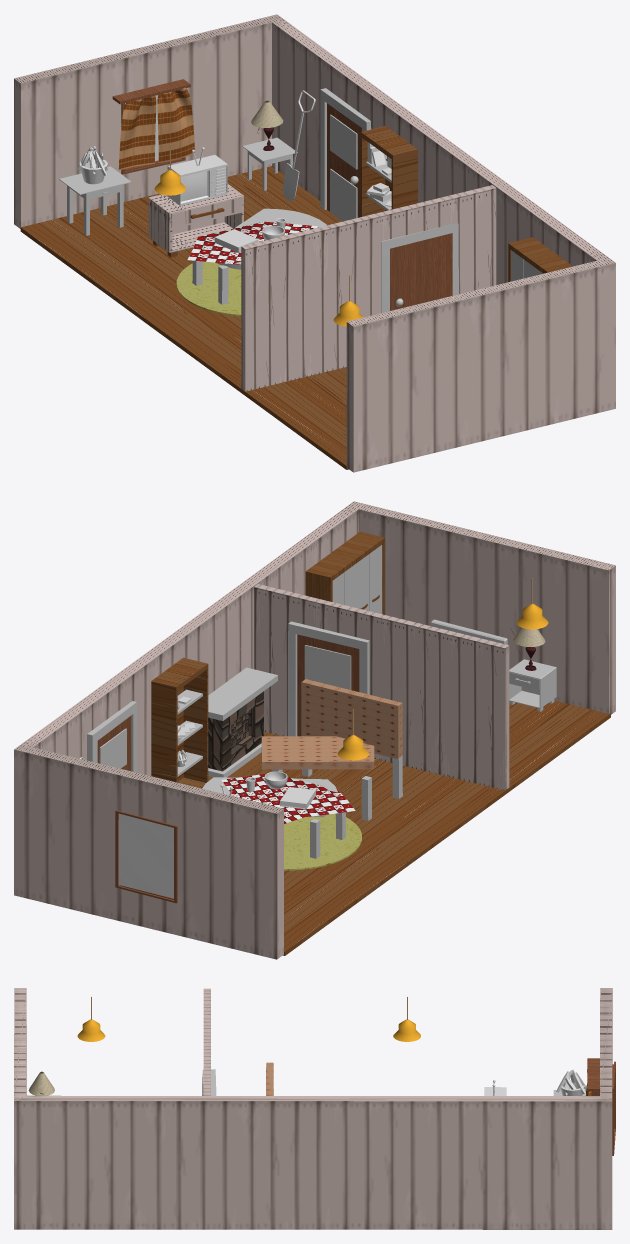
The model's file is LEVEL 1 (1).FBX.
3 views of the same model, one above another, from view 1: azimuth 30°, elevation 25°; view 2: azimuth 150°, elevation 25°; view 3: azimuth 270°, elevation 25° (orthographic). The views are drawn at different scales.
Parts seen in each view (by area): view 1: Line023, Line024, Lantai, Box010, Box127, Box147, Gorden kanan001, Gorden kanan, KARPET, Plane003, Line025, TAPLAK MEJA (+10 smaller); view 2: Line023, Line024, Lantai, Box147, Box089, Box131, Box090, KARPET, Box004, TAPLAK MEJA, LEMARI, Line003 (+11 smaller); view 3: Line023, Line024, Cylinder118, Box132, Cylinder116, CUP LAMPU KAMAR, CasementWindow001.
Boxes of the visible parts, <box> form: Line023: <box>14,14,615,472</box>; Line024: <box>241,185,496,391</box>; Lantai: <box>20,166,348,469</box>; Box010: <box>148,184,243,252</box>; Box127: <box>390,233,452,310</box>; Box147: <box>361,126,417,216</box>; Gorden kanan001: <box>157,87,194,162</box>; Gorden kanan: <box>119,96,156,170</box>; KARPET: <box>176,261,241,316</box>; Plane003: <box>59,166,131,235</box>; Line025: <box>381,223,458,312</box>; TAPLAK MEJA: <box>187,221,317,264</box>; Line023: <box>14,501,615,959</box>; Line024: <box>254,584,509,790</box>; Lantai: <box>208,700,610,955</box>; Box147: <box>151,657,208,788</box>; Box089: <box>301,679,402,759</box>; Box131: <box>118,813,173,898</box>; Box090: <box>261,736,374,769</box>; KARPET: <box>284,813,361,870</box>; Box004: <box>208,691,263,771</box>; TAPLAK MEJA: <box>221,773,355,824</box>; LEMARI: <box>305,531,384,614</box>; Line003: <box>288,621,369,736</box>; Line023: <box>14,988,612,1229</box>; Line024: <box>203,988,210,1095</box>; Cylinder118: <box>77,1019,105,1041</box>; Box132: <box>587,1058,599,1091</box>; Cylinder116: <box>393,1019,420,1041</box>; CUP LAMPU KAMAR: <box>28,1071,54,1095</box>; CasementWindow001: <box>591,1061,615,1155</box>.
Bounding box in the file's own units: 1352 × 769 × 3031.
